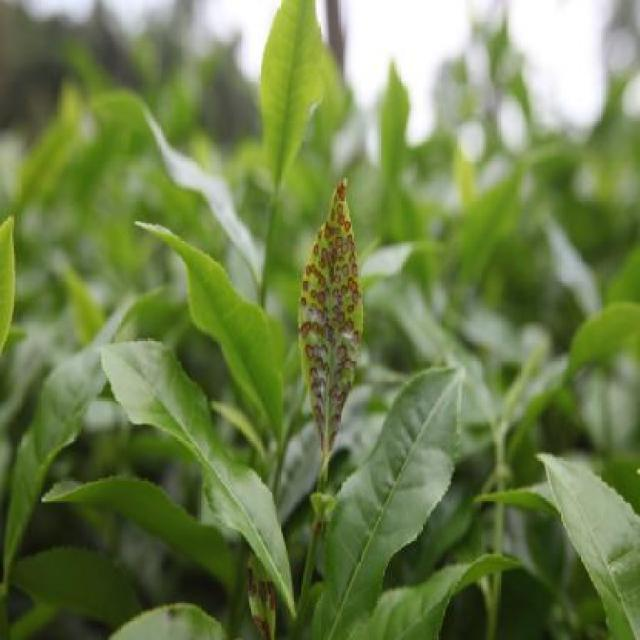Tea Mosquito bug infested leaf: (296, 177, 366, 461)
